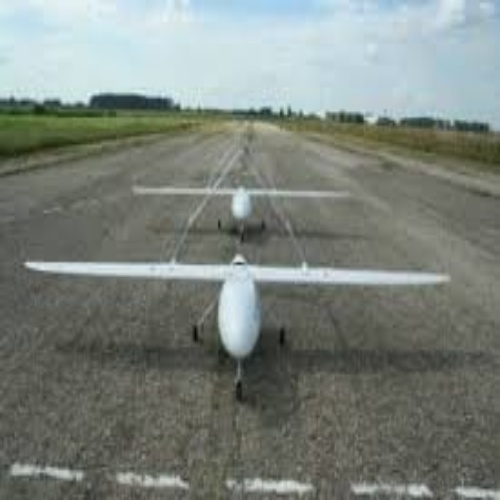uav143: (20, 252, 453, 397), (128, 176, 352, 240)
